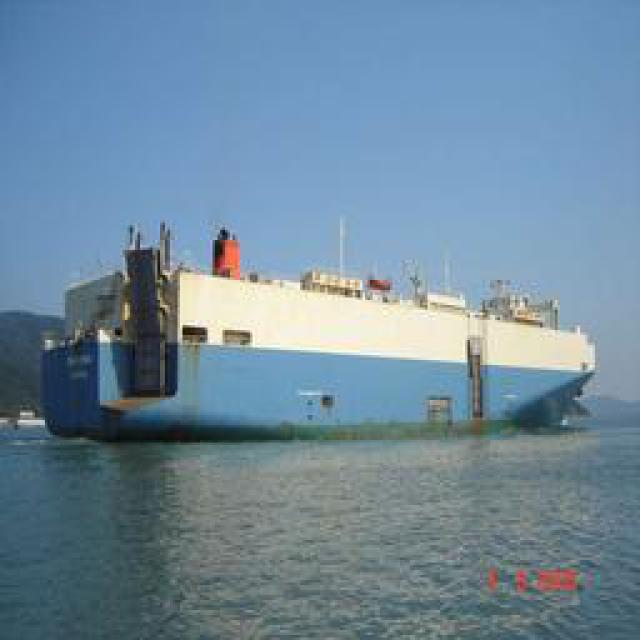Ship: (36, 229, 601, 442)
